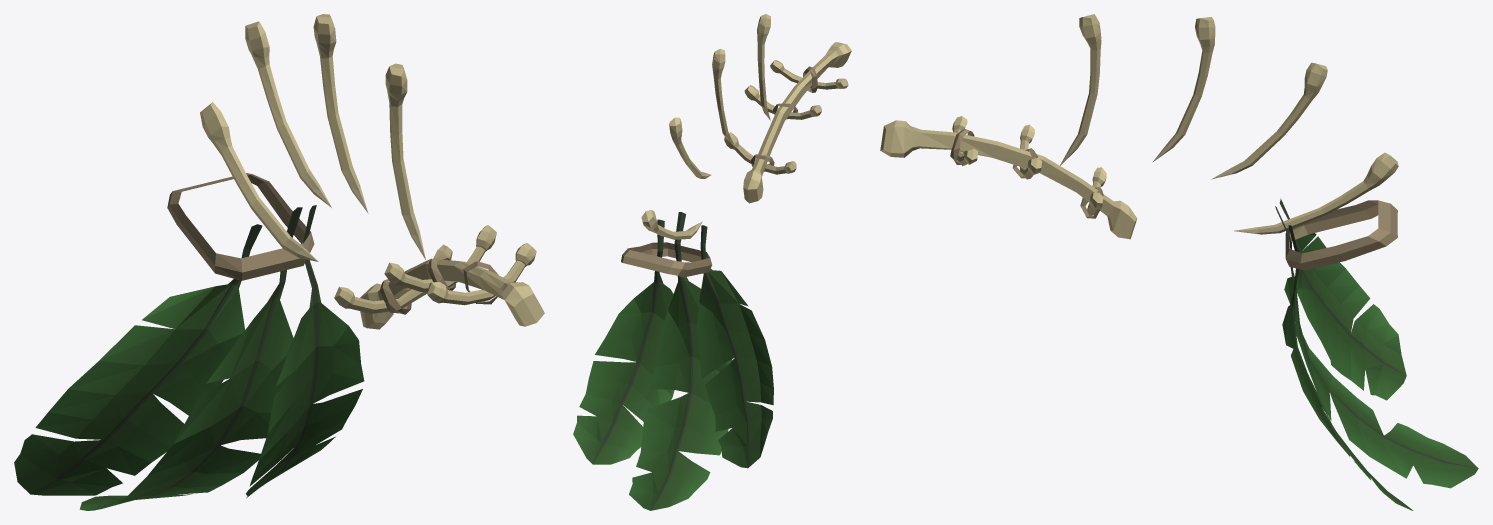
The model's file is smallCrossbowTribeHandle.glb.
3 renders of one model, left to right at view 1: azimuth 30°, elevation 25°; view 2: azimuth 150°, elevation 25°; view 3: azimuth 270°, elevation 25°, orthographic. The views are drawn at different scales.
Parts seen in each view (by area): view 1: smallCrossbowTribeHandle; view 2: smallCrossbowTribeHandle; view 3: smallCrossbowTribeHandle.
Part boxes in pixels (x1,y1,x2,y2): smallCrossbowTribeHandle: (14,14,544,510); smallCrossbowTribeHandle: (573,14,851,510); smallCrossbowTribeHandle: (880,14,1478,510).
Bounding box in the file's own units: 0.1834 × 0.3326 × 0.3785.
